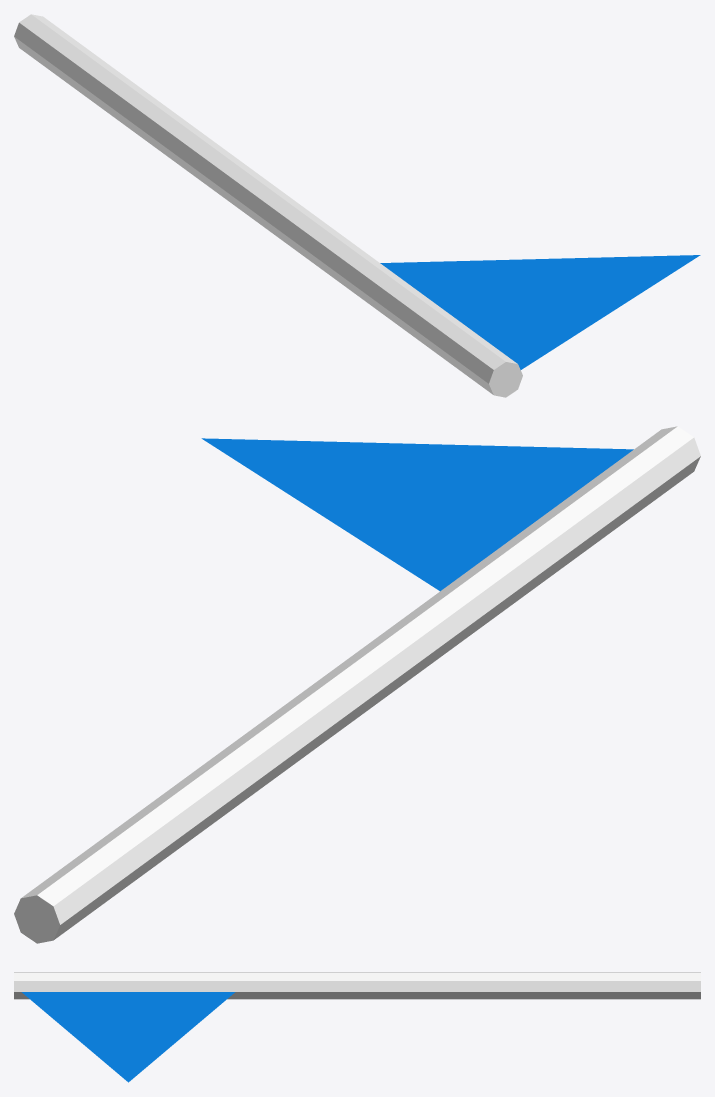
The model's file is flag-par-4.glb.
3 renders of one model, top to bottom at view 1: azimuth 30°, elevation 25°; view 2: azimuth 150°, elevation 25°; view 3: azimuth 270°, elevation 25°, orthographic. The views are drawn at different scales.
Visible parts, largest first — view 1: flag-par-4; view 2: flag-par-4; view 3: flag-par-4.
Part boxes in pixels (x1,y1,x2,y2): flag-par-4: [14, 14, 700, 397]; flag-par-4: [14, 426, 700, 943]; flag-par-4: [14, 972, 700, 1082].
Size of the model in its own units: 1.06 by 0.125 by 3.
1 material, 1 textured.
